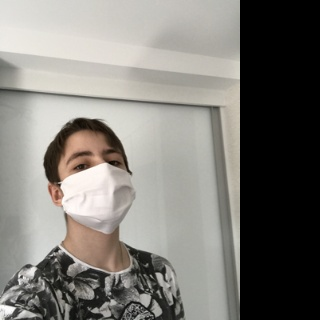with_mask: (58, 143, 135, 237)
